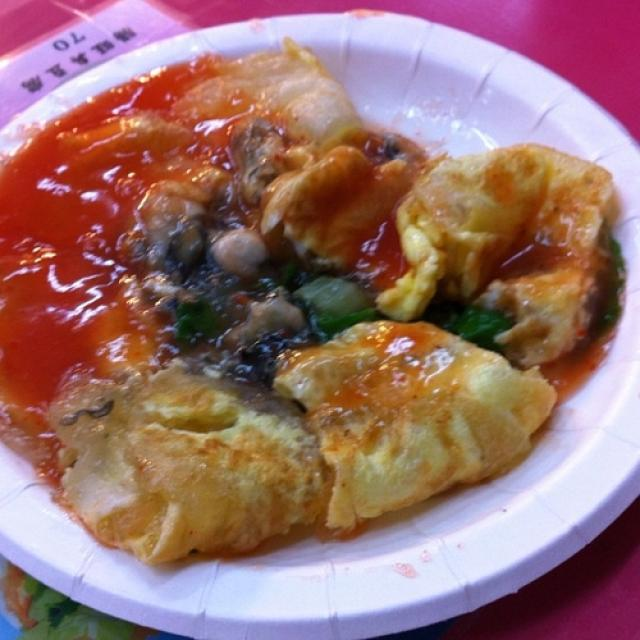熟制海鲜: (4, 16, 634, 604)
